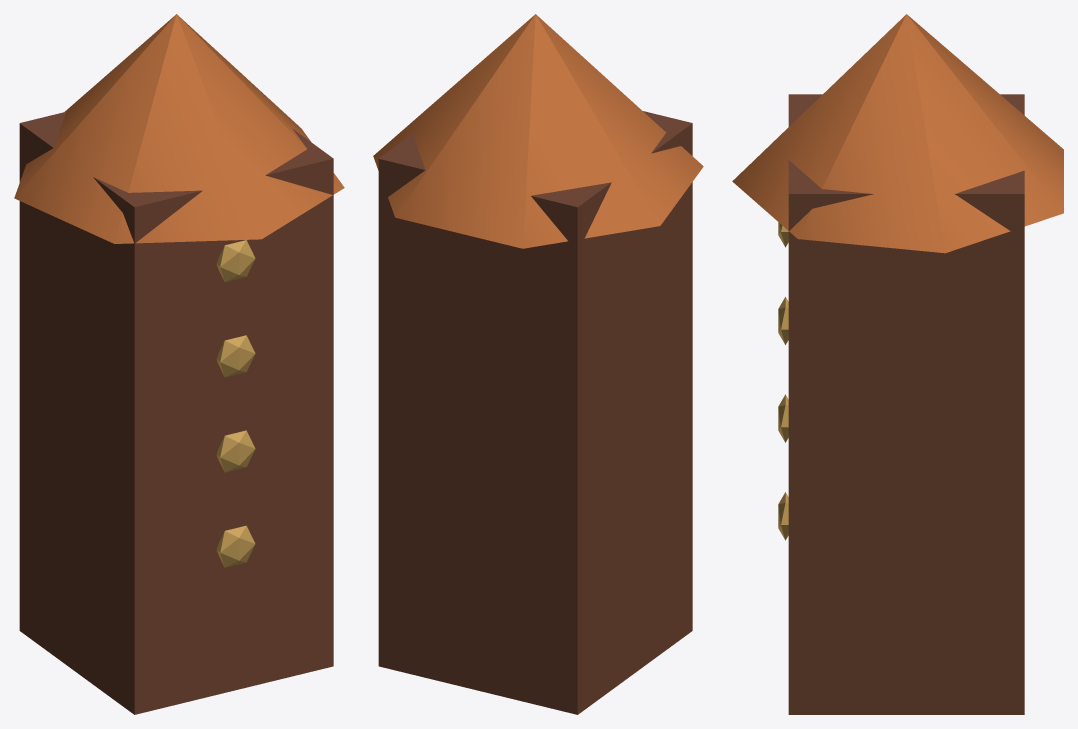
The model's file is watchtower.glb.
3 renders of one model, left to right at view 1: azimuth 30°, elevation 25°; view 2: azimuth 150°, elevation 25°; view 3: azimuth 270°, elevation 25°, orthographic. The views are drawn at different scales.
Parts seen in each view (by area): view 1: tower_body, tower_crown, window_3, window_0, window_1, window_2; view 2: tower_body, tower_crown; view 3: tower_body, tower_crown.
Boxes of the visible parts, box(x1,y1,x2,y2) form: tower_body: box(19, 111, 333, 714); tower_crown: box(14, 14, 344, 243); window_3: box(216, 240, 255, 282); window_0: box(216, 525, 255, 567); window_1: box(216, 430, 255, 472); window_2: box(216, 335, 255, 377); tower_body: box(378, 111, 692, 714); tower_crown: box(373, 14, 703, 248); tower_body: box(788, 94, 1024, 714); tower_crown: box(732, 14, 1063, 253).
Size of what is drawn, in the model's own units: 3.31 by 7 by 3.23.
